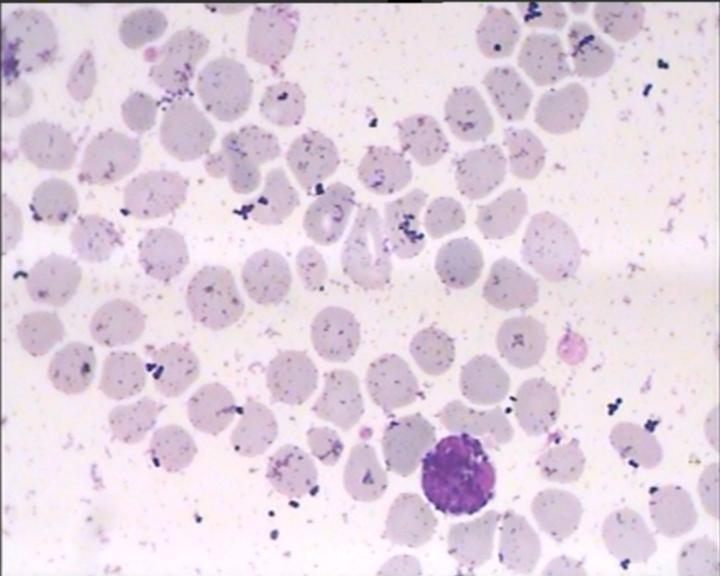baso: (414, 430, 496, 518)
